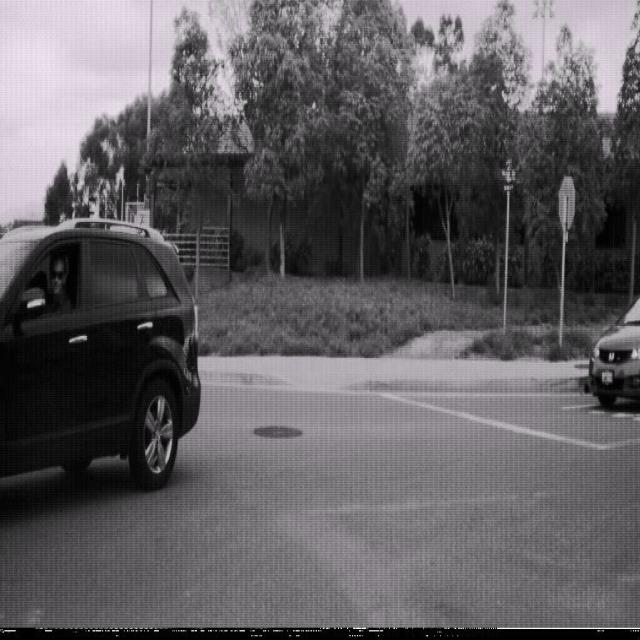speedLimit25: (135, 207, 150, 243)
